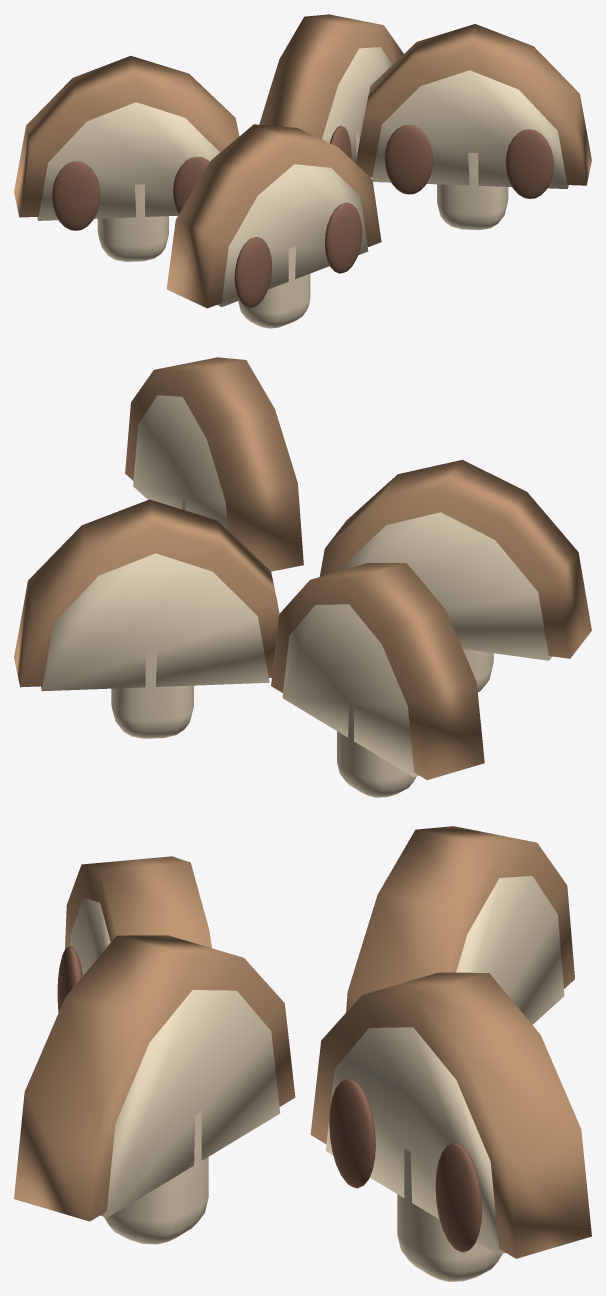
Rendered from mushroom-chopped.obj.
3 views of the same model, one above another, from view 1: azimuth 30°, elevation 25°; view 2: azimuth 150°, elevation 25°; view 3: azimuth 270°, elevation 25° (orthographic). The views are drawn at different scales.
Parts seen in each view (by area): view 1: mushroom-chopped_mushroom, mushroom-chopped_mushroomFlesh, mushroom-chopped_gill; view 2: mushroom-chopped_mushroom, mushroom-chopped_mushroomFlesh; view 3: mushroom-chopped_mushroom, mushroom-chopped_mushroomFlesh, mushroom-chopped_gill.
Part boxes in pixels (x1=…): mushroom-chopped_mushroom: x1=14, y1=14, x2=591, y2=308; mushroom-chopped_mushroomFlesh: x1=37, y1=47, x2=568, y2=328; mushroom-chopped_gill: x1=52, y1=125, x2=553, y2=307; mushroom-chopped_mushroom: x1=14, y1=357, x2=591, y2=780; mushroom-chopped_mushroomFlesh: x1=41, y1=395, x2=552, y2=797; mushroom-chopped_mushroom: x1=14, y1=826, x2=591, y2=1258; mushroom-chopped_mushroomFlesh: x1=70, y1=876, x2=564, y2=1281; mushroom-chopped_gill: x1=57, y1=946, x2=482, y2=1252.
Size of the model in its own units: 0.252 by 0.128 by 0.1871.
